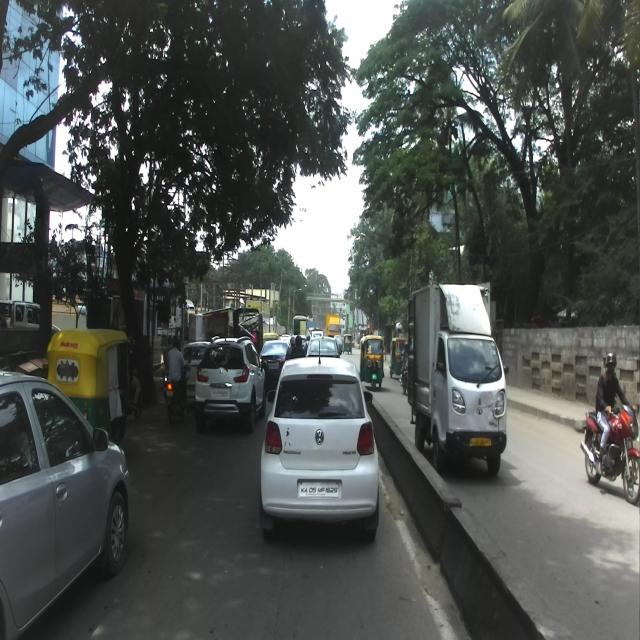Car_Honda: (194, 334, 268, 433)
Car_Volkswagen: (259, 339, 379, 542)
autorickshaw: (46, 327, 135, 448)
motorcycle_bajaj: (580, 402, 639, 507)
truck: (406, 283, 507, 480)
